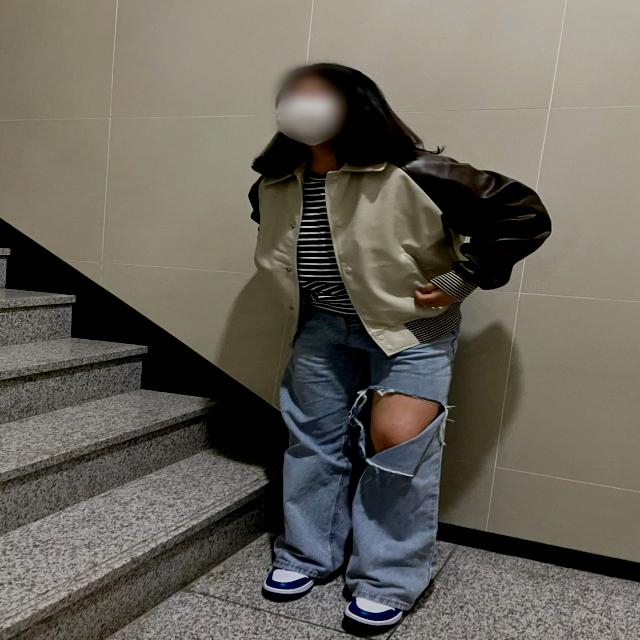denimpants: (276, 298, 464, 606)
jacket: (246, 144, 550, 359)
